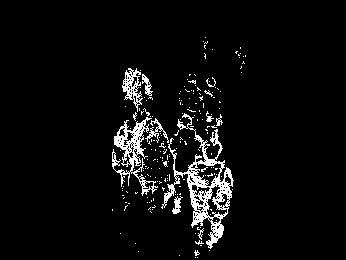person: (188, 139, 233, 257), (166, 114, 200, 214), (139, 116, 173, 210), (110, 120, 146, 207), (123, 66, 154, 111), (201, 75, 223, 130), (178, 71, 203, 116)
